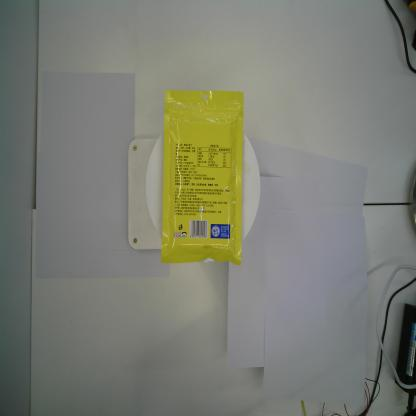Dried Fruit: (159, 89, 245, 268)
